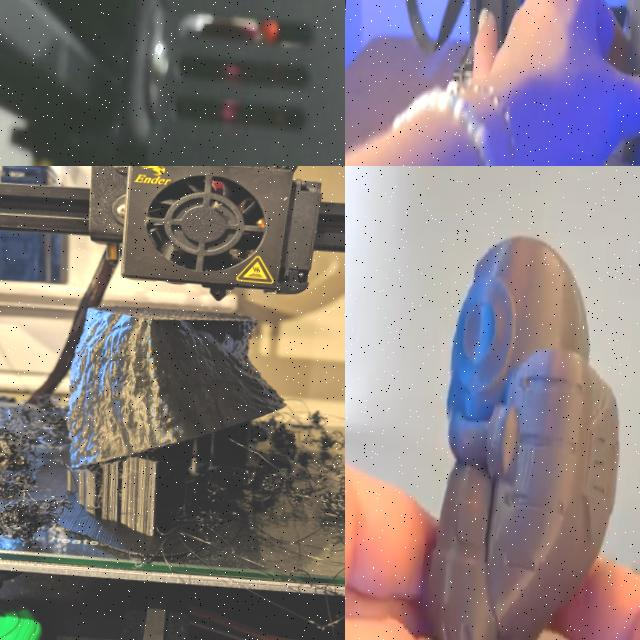spaghetti: (230, 408, 345, 573), (0, 393, 73, 551)
